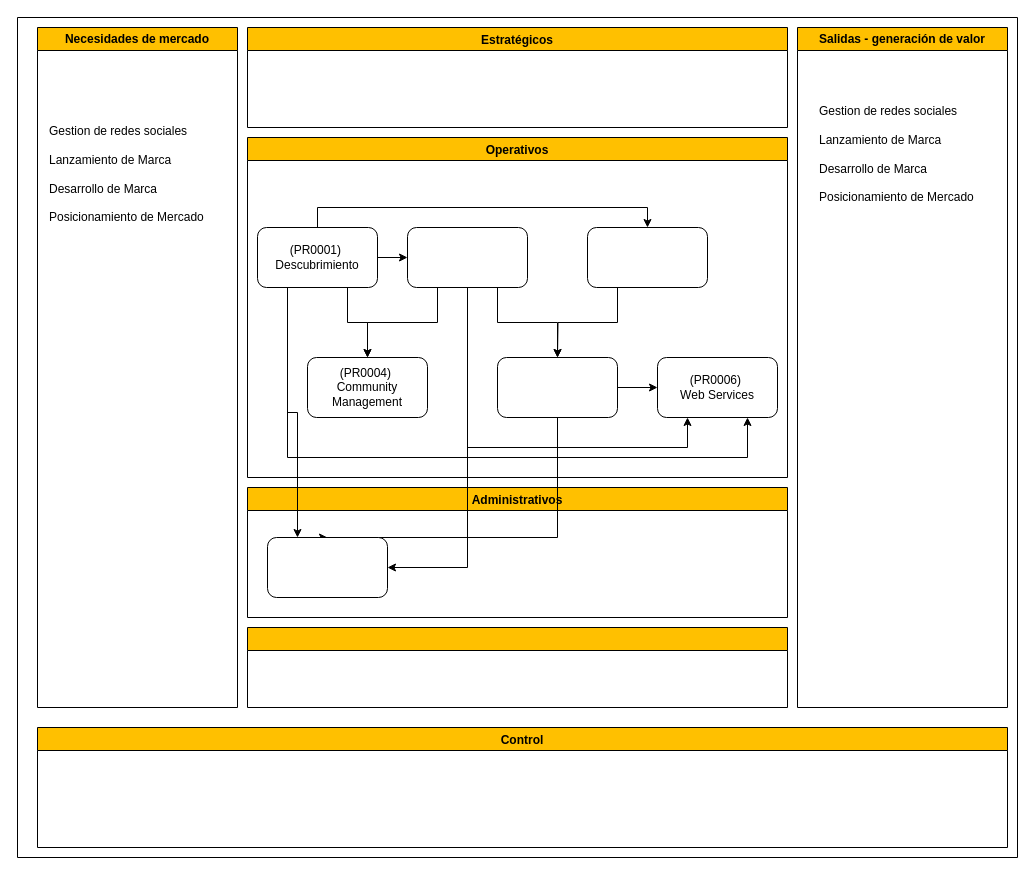
Some shapes in this 1035 by 875 pixel diagram are drawn without their labels. The shapes that lost their labels are listed below. From the top down, each one's centre as x and y in pixels, then its label:
the point at 467,257: (PR0002) Análisis y Ordenamiento
the point at 647,257: (PR0003) Taller de Personalidad
the point at 557,387: (PR0005) Branding
the point at 327,567: (PR0007) Eventos
the point at 517,667: Soporte
